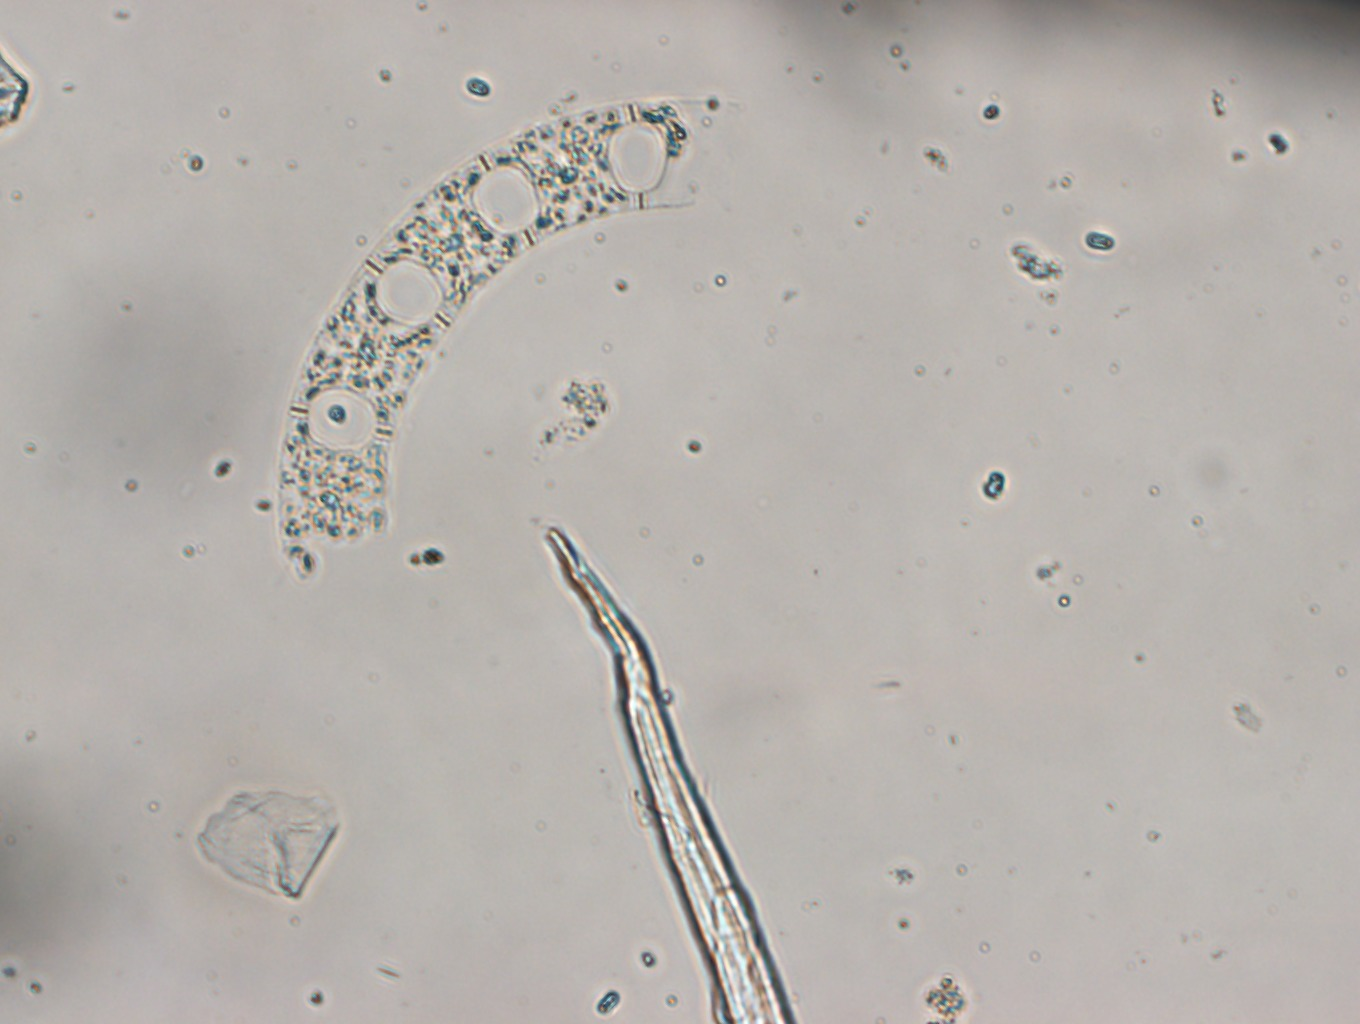eucampia: (276, 97, 714, 579)
